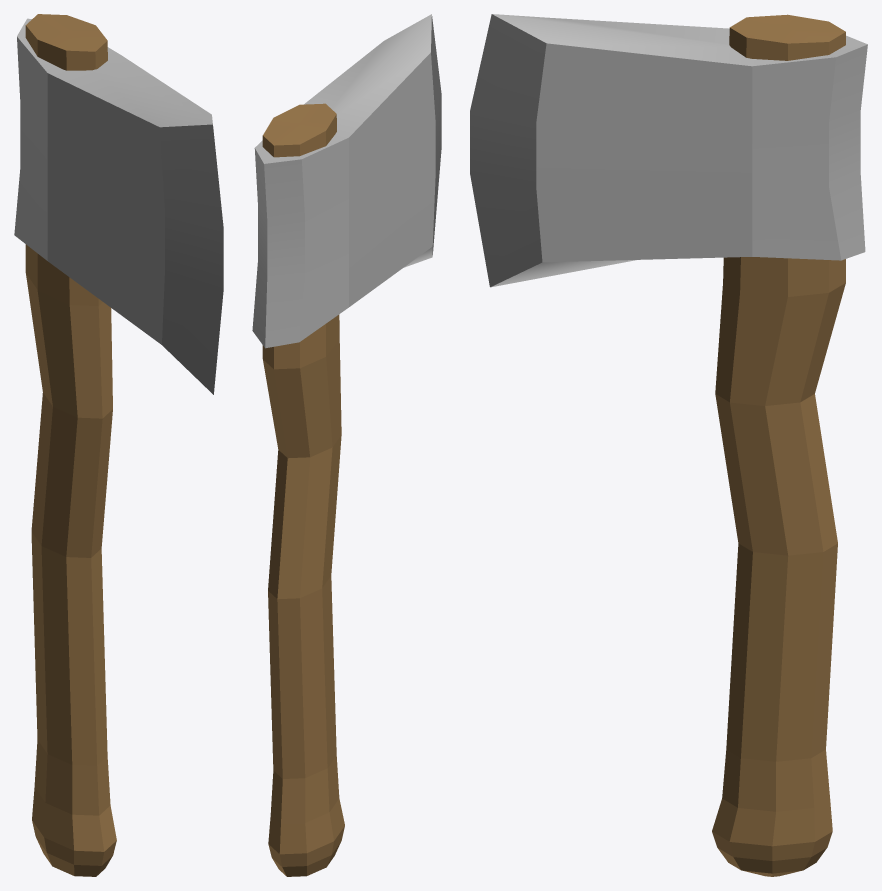
Rendered from axe.fbx.
3 views of the same model, side by side, from view 1: azimuth 30°, elevation 25°; view 2: azimuth 150°, elevation 25°; view 3: azimuth 270°, elevation 25° (orthographic). The views are drawn at different scales.
Parts seen in each view (by area): view 1: pCylinder2, pCylinder1; view 2: pCylinder2, pCylinder1; view 3: pCylinder2, pCylinder1.
Boxes of the visible parts, x1,y1,x2,y2 form: pCylinder2: [14, 18, 223, 394]; pCylinder1: [25, 14, 116, 876]; pCylinder2: [252, 14, 441, 348]; pCylinder1: [262, 103, 344, 876]; pCylinder2: [470, 14, 867, 287]; pCylinder1: [712, 14, 845, 876].
Size of the model in its own units: 0.7265 by 8.01 by 3.36.
